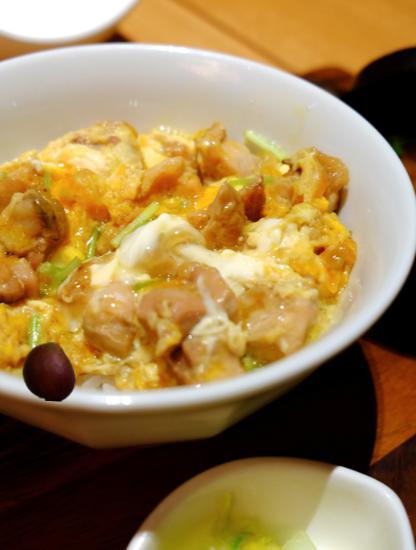Mango: (20, 342, 79, 401)
